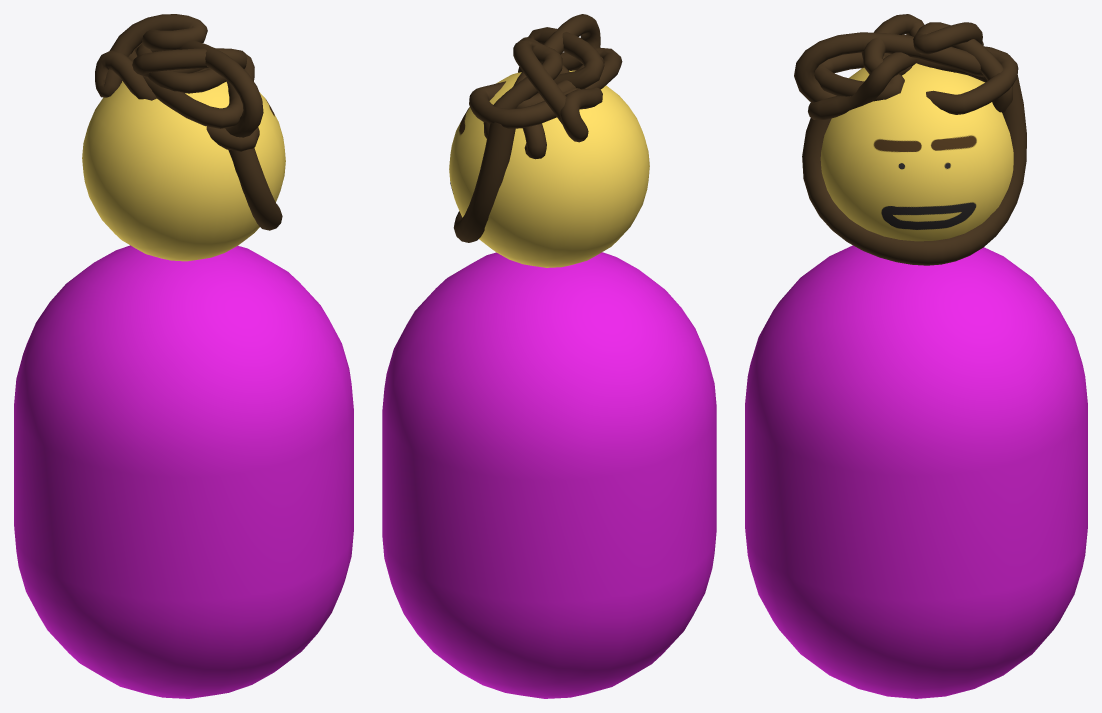
Rendered from cam_people_9.glb.
3 renders of one model, left to right at view 1: azimuth 30°, elevation 25°; view 2: azimuth 150°, elevation 25°; view 3: azimuth 270°, elevation 25°, orthographic. The views are drawn at different scales.
Parts seen in each view (by area): view 1: Roundcube, Roundcube.006, BézierCurve, BézierCurve.001; view 2: Roundcube, Roundcube.006, BézierCurve, BézierCurve.001; view 3: Roundcube, Roundcube.006, BézierCurve, BézierCurve.001.
Boxes of the visible parts, x1,y1,x2,y2 form: Roundcube: [14, 245, 353, 698]; Roundcube.006: [82, 81, 285, 261]; BézierCurve: [95, 14, 263, 151]; BézierCurve.001: [228, 148, 282, 230]; Roundcube: [382, 252, 716, 698]; Roundcube.006: [449, 70, 649, 267]; BézierCurve: [469, 14, 622, 159]; BézierCurve.001: [453, 122, 515, 242]; Roundcube: [745, 245, 1087, 698]; Roundcube.006: [820, 63, 1013, 241]; BézierCurve: [794, 14, 1018, 119]; BézierCurve.001: [802, 75, 1026, 265].
Bounding box in the file's own units: 1 × 2.12 × 1.
Materials: 3 (1 with a texture image).
